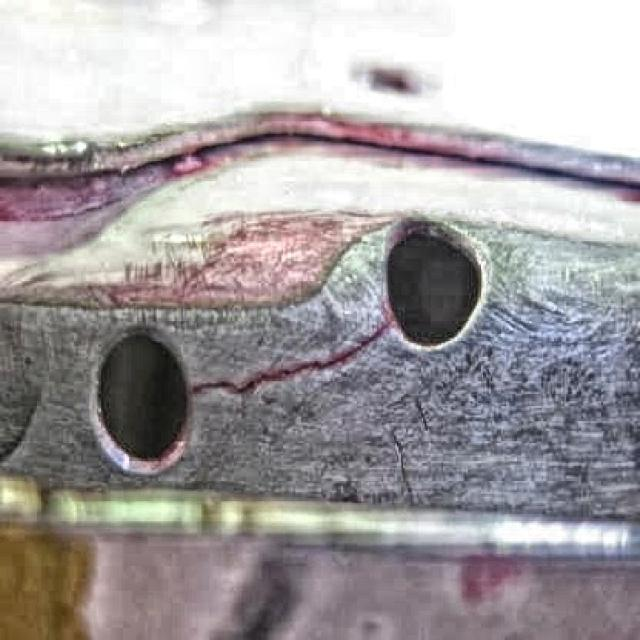crack: (297, 351, 357, 374), (232, 374, 297, 391), (357, 320, 391, 349), (194, 380, 232, 397)
